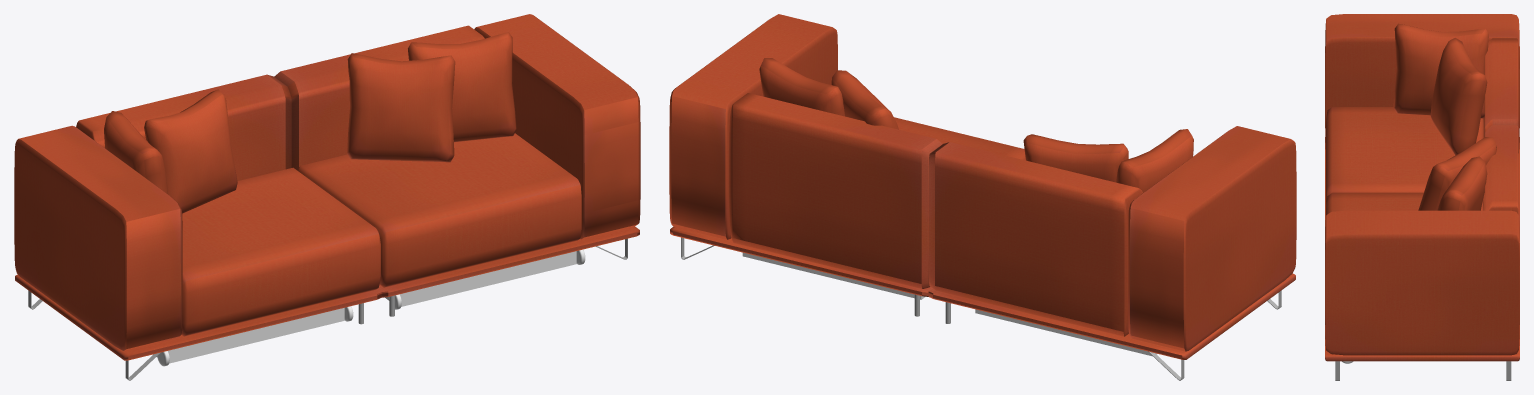
File: Tylosand_3_Seat_Sofa_Bed-3D.DAE
3 views of the same model, side by side, from view 1: azimuth 30°, elevation 25°; view 2: azimuth 150°, elevation 25°; view 3: azimuth 270°, elevation 25° (orthographic). The views are drawn at different scales.
Parts seen in each view (by area): view 1: Box10, Box06, Box01, Box09, Box02, Box08, Cylinder05, Cylinder06, Box07, Cylinder04; view 2: Box10, Box02, Box08, Box07, Box09, Box06, Cylinder06, Cylinder05, Cylinder04; view 3: Box10, Box01, Box07, Box02, Box09, Box06, Box08, Cylinder04.
Part boxes in pixels (x1,y1,x2,y2): Box10: [14, 14, 640, 360]; Box06: [297, 133, 581, 287]; Box01: [181, 167, 380, 336]; Box09: [347, 53, 455, 162]; Box02: [144, 89, 237, 213]; Box08: [408, 32, 516, 142]; Cylinder05: [156, 306, 353, 366]; Cylinder06: [385, 249, 585, 309]; Box07: [104, 111, 168, 194]; Cylinder04: [28, 238, 627, 380]; Box10: [669, 14, 1296, 359]; Box02: [1023, 134, 1128, 182]; Box08: [759, 58, 844, 116]; Box07: [1116, 129, 1193, 192]; Box09: [831, 70, 898, 129]; Box06: [894, 117, 1025, 160]; Cylinder06: [742, 252, 925, 299]; Cylinder05: [975, 309, 1157, 356]; Cylinder04: [681, 237, 1281, 380]; Box10: [1325, 14, 1519, 361]; Box01: [1326, 107, 1483, 203]; Box07: [1393, 23, 1488, 118]; Box02: [1430, 38, 1487, 155]; Box09: [1418, 137, 1496, 210]; Box06: [1326, 192, 1483, 215]; Box08: [1437, 156, 1487, 210]; Cylinder04: [1335, 361, 1511, 380].
Size of the model in its own units: 2453 by 869 by 910.
